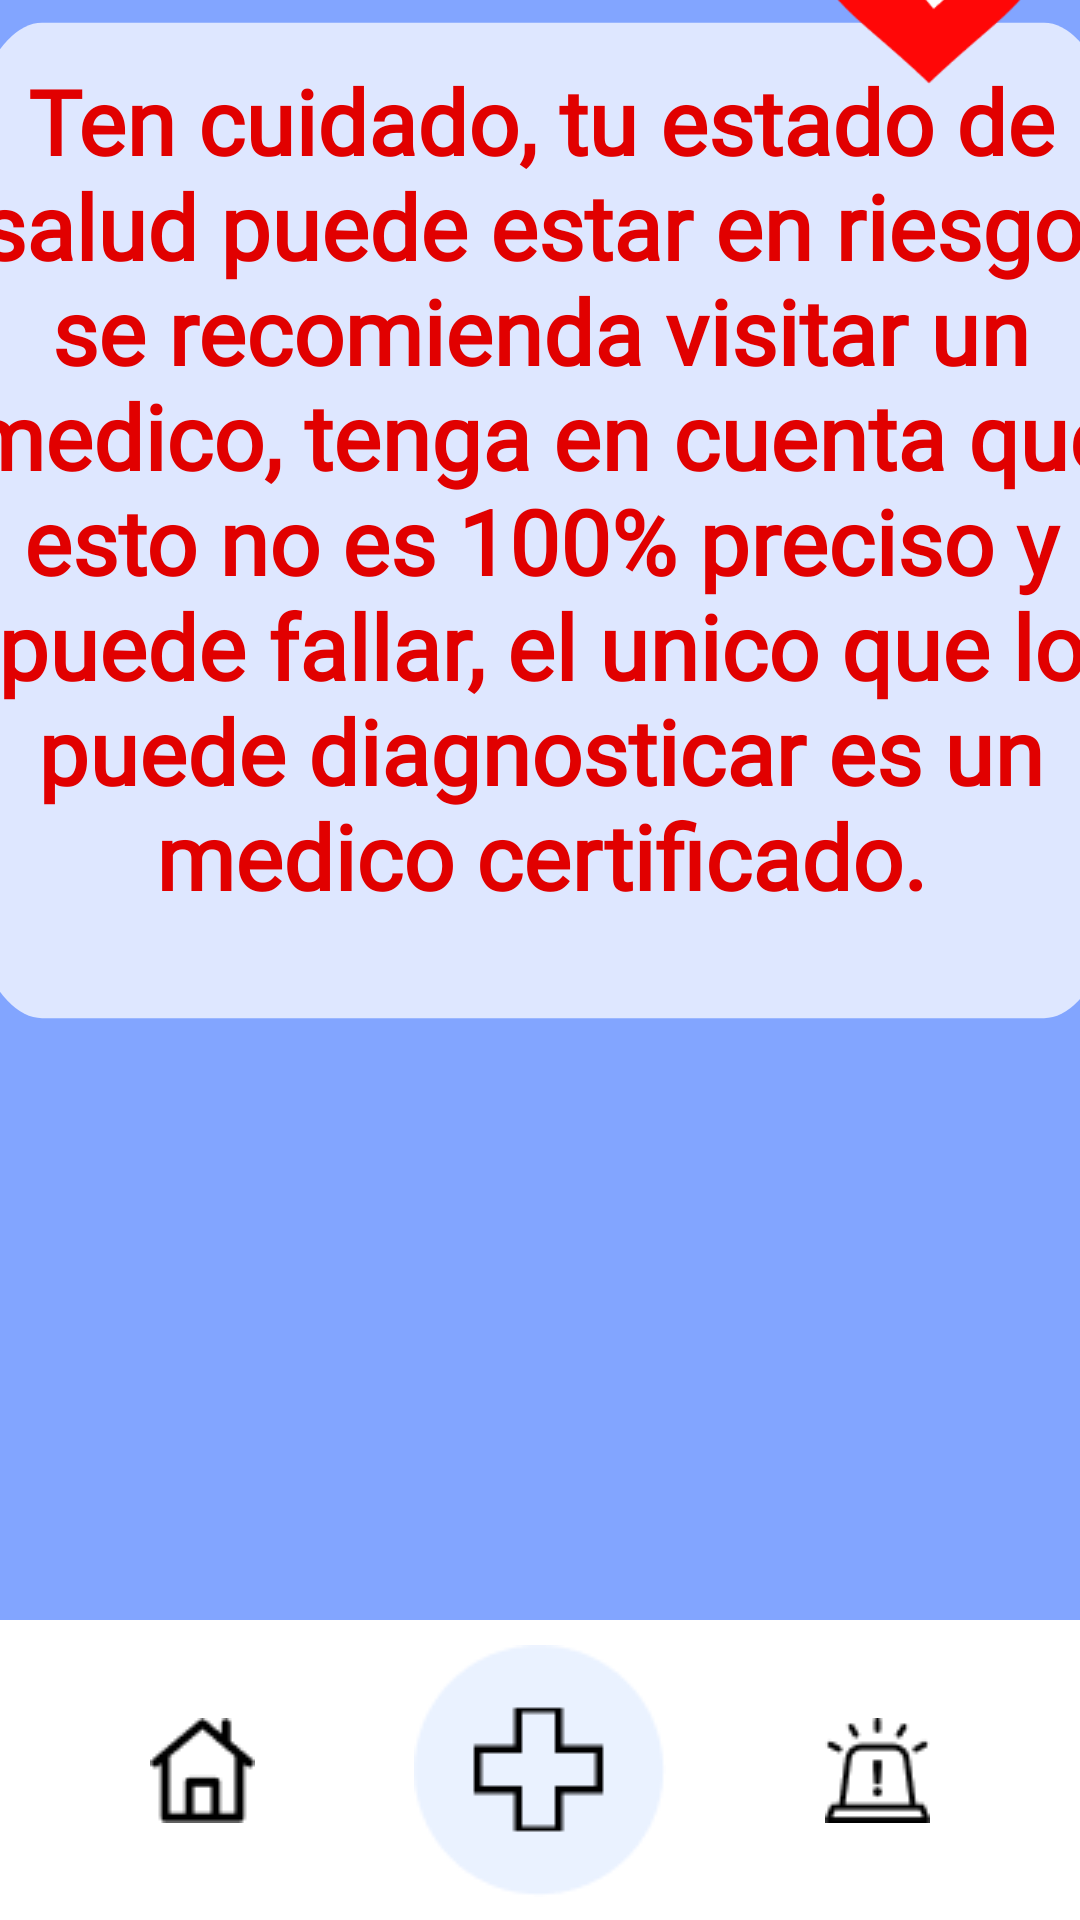

Icons on this 1080 × 1920 Android screen, each with the point to tap as point (x, y):
casa: point (202, 1770)
sirena: point (877, 1770)
